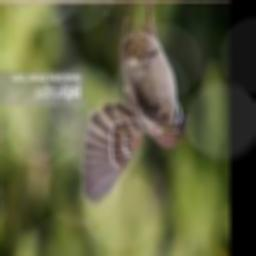Sparrow: (82, 1, 192, 208)
